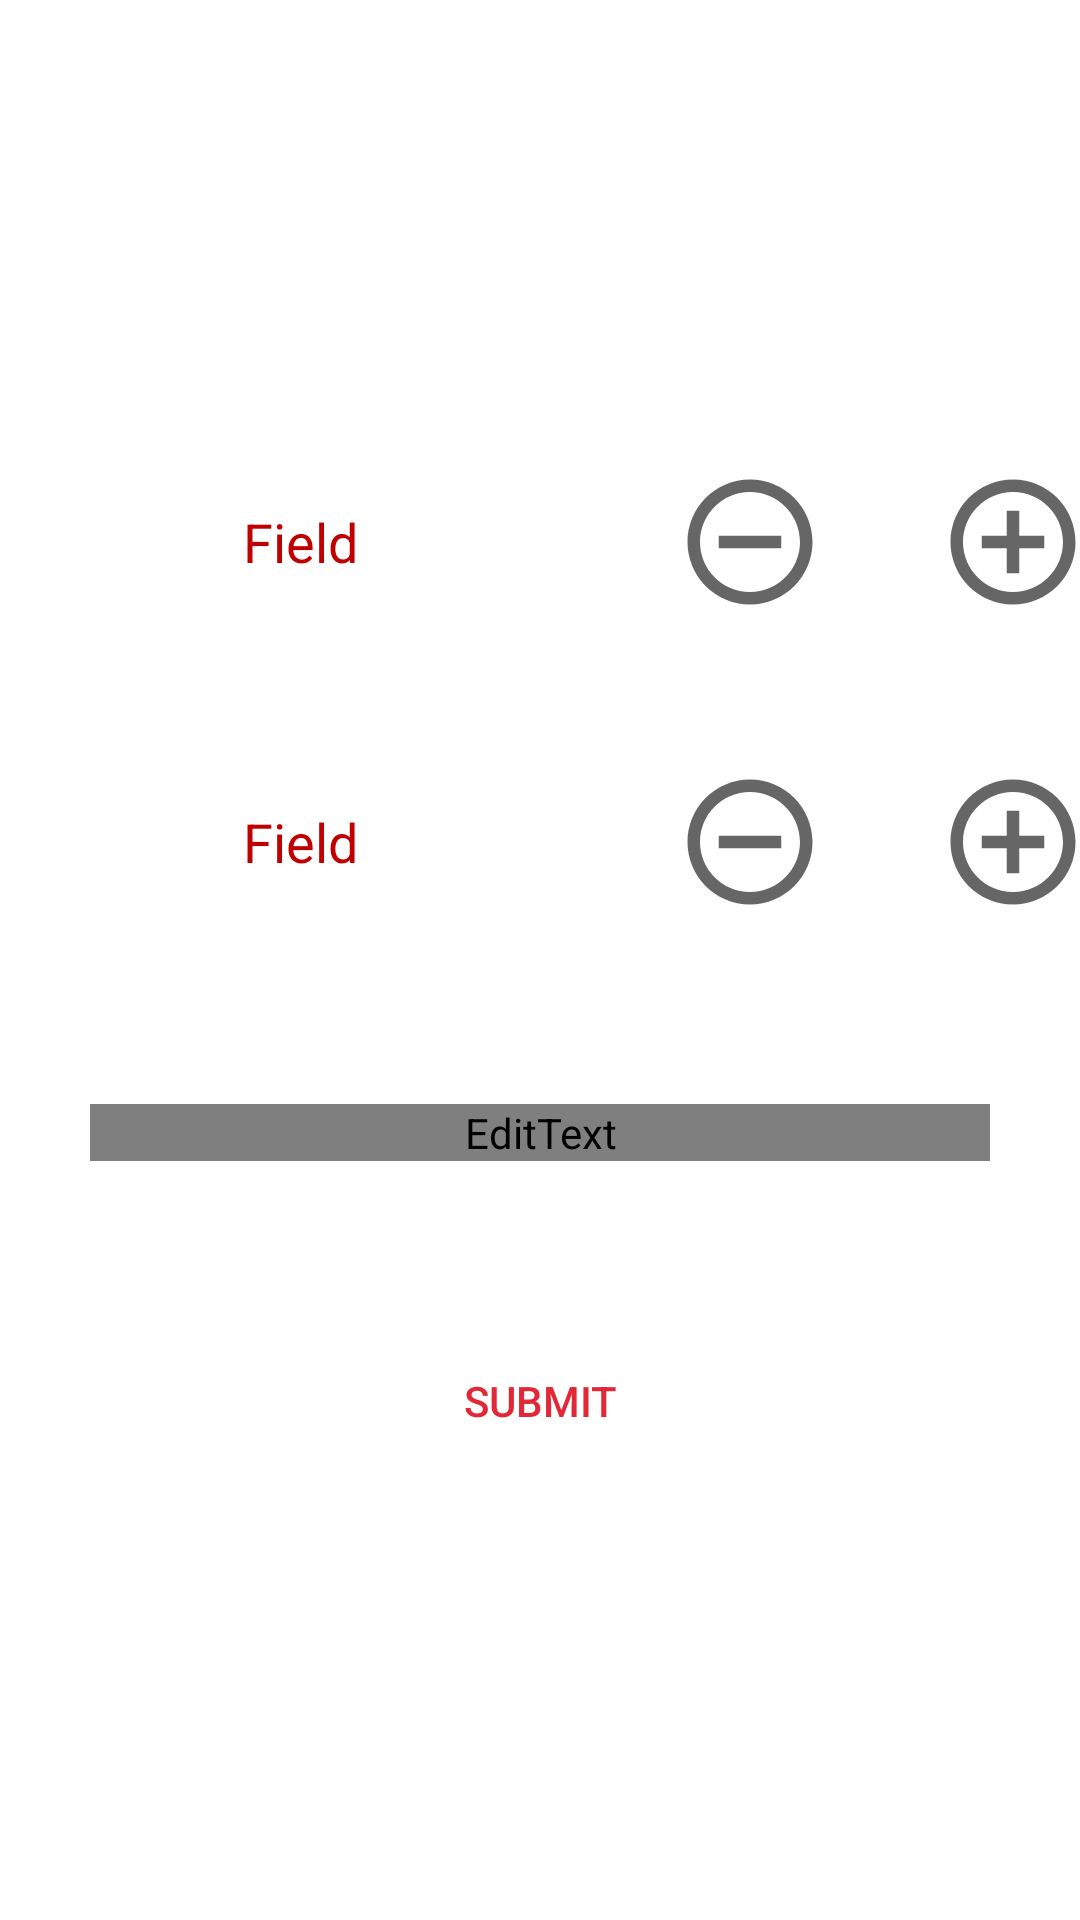

Named icons in this screenshot (1080*1920) and their bounding boxes, bbox=(x1, y1, x2, y2):
remove circle: bbox=(687, 479, 813, 605), bbox=(687, 779, 813, 905)
